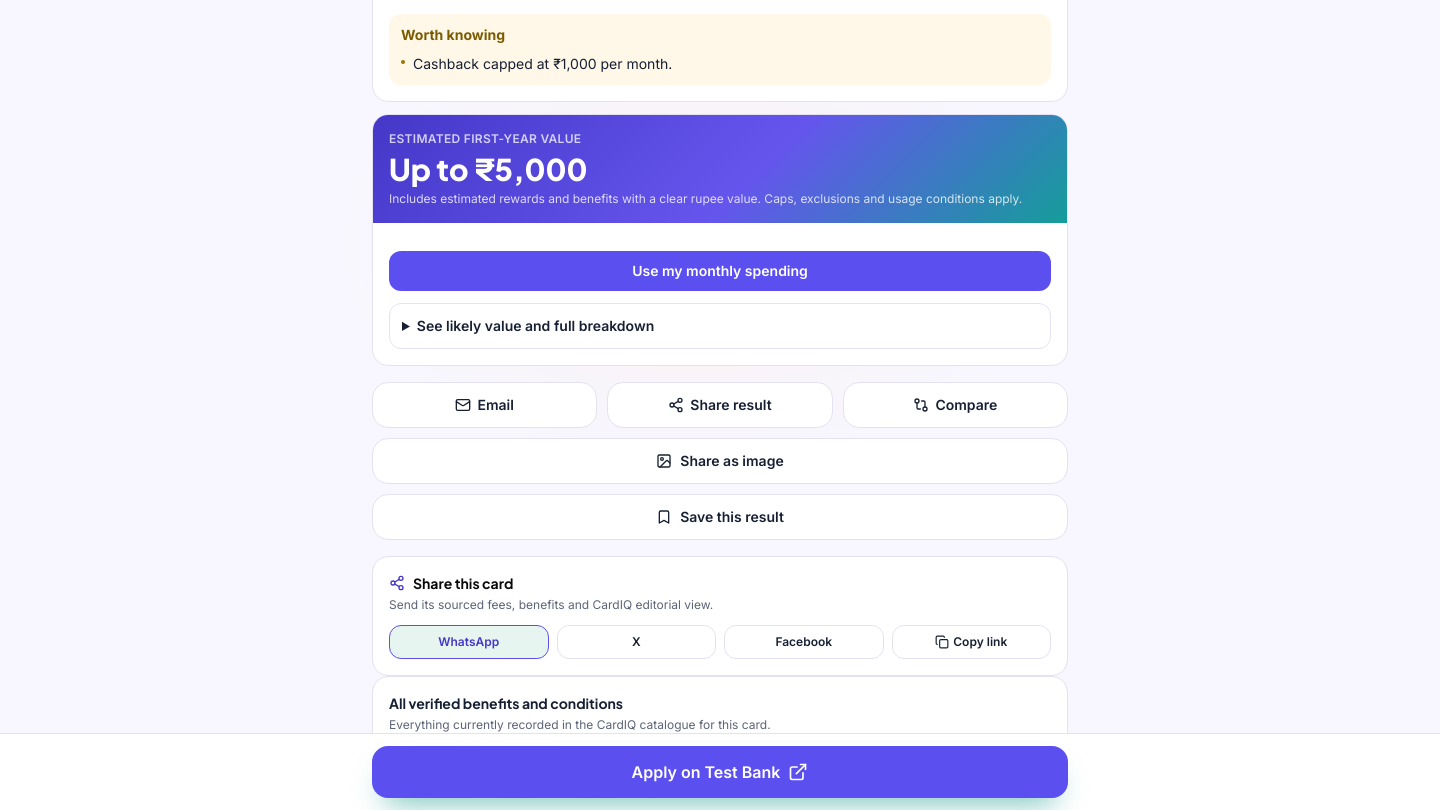
it: Result customer flows › keeps the result uninterrupted and offers optional contact capture
The width and height of the screenshot is (1440, 810).
(page scrolled)
Expected: the text "Want your result by email?" is not shown
Click the button "Email": (485, 405) left=372, top=382, right=597, bottom=428
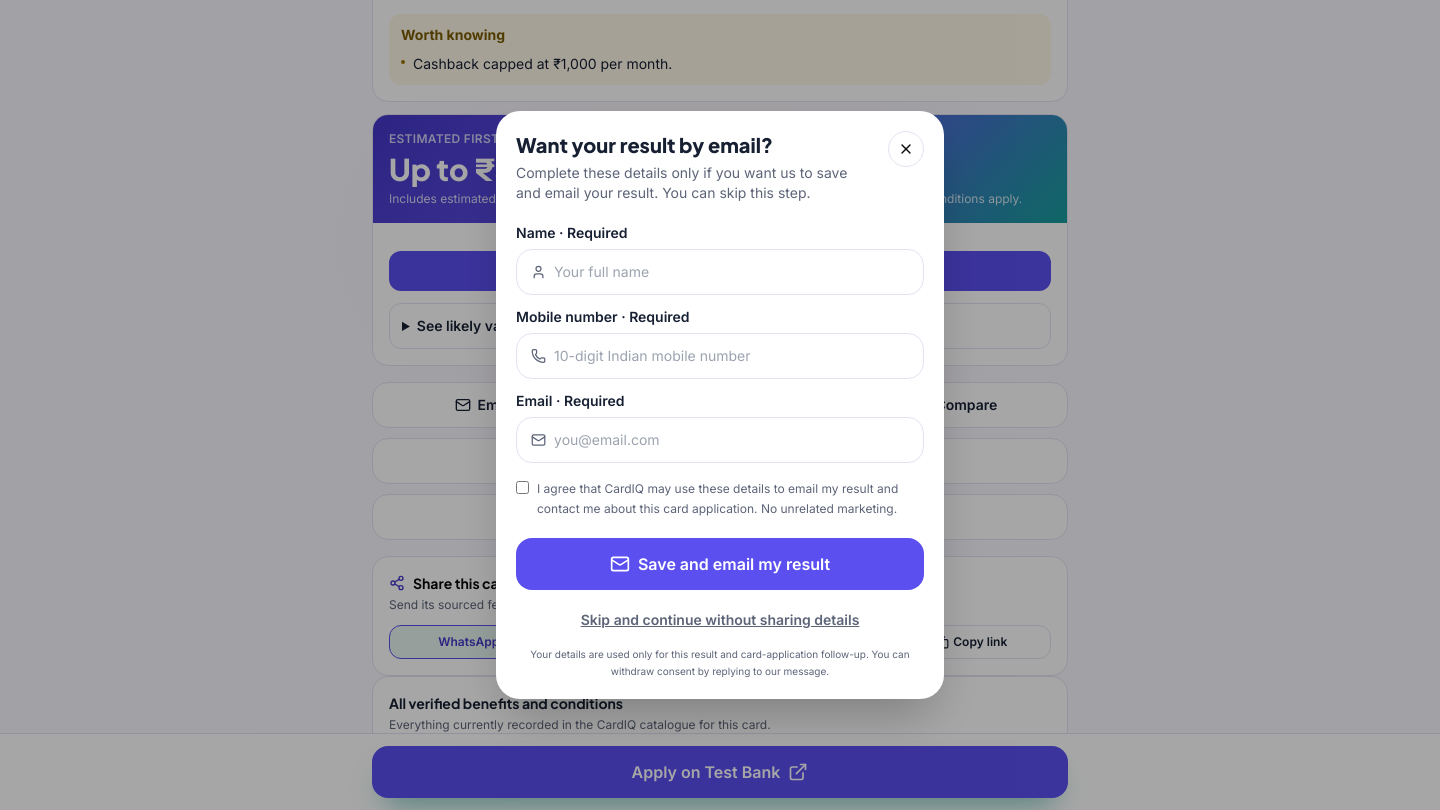
Result: the text "Want your result by email?" is shown at left=516, top=132, right=773, bottom=157
Click the button "Skip and continue without sharing details": (720, 620) left=516, top=602, right=924, bottom=638
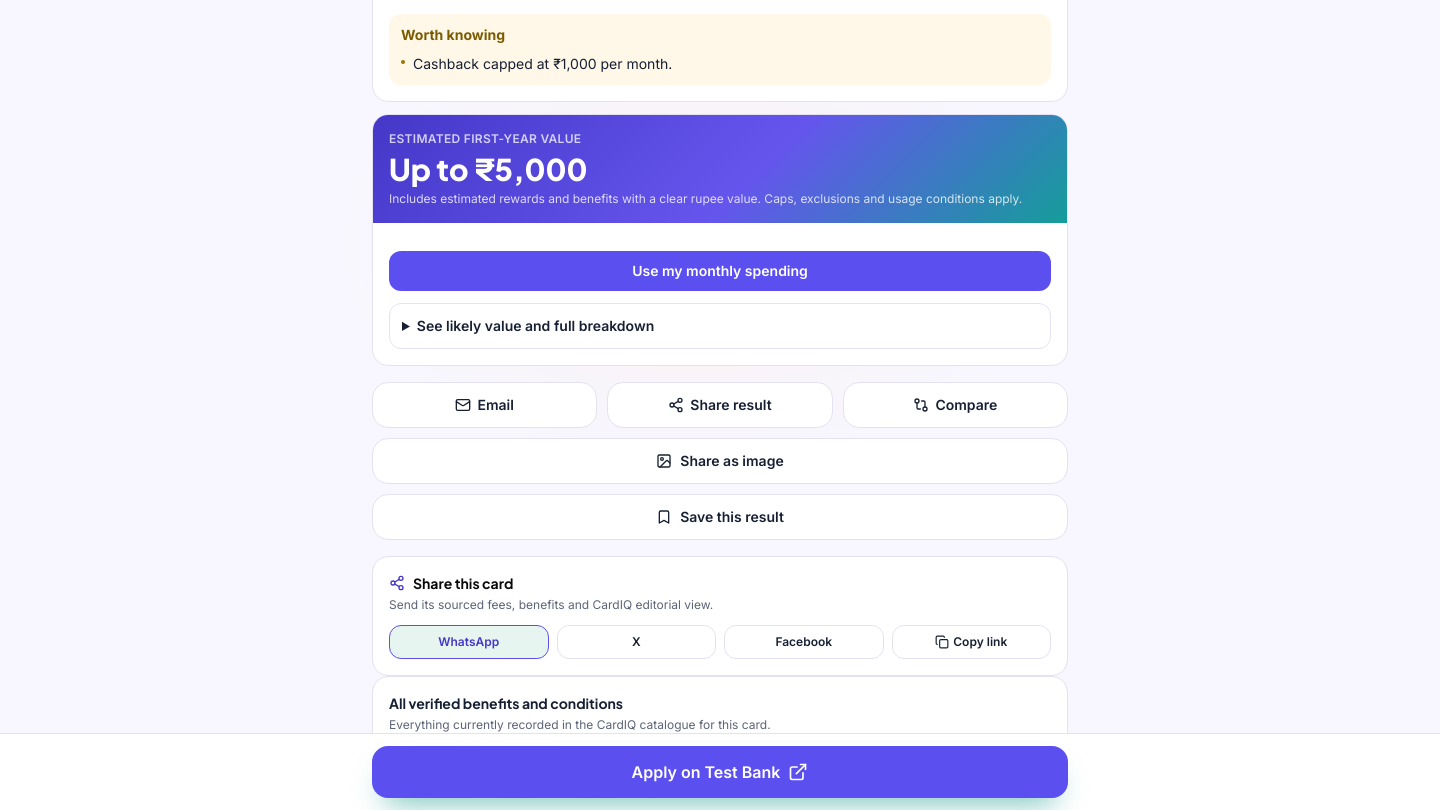
Result: the text "Want your result by email?" is gone
